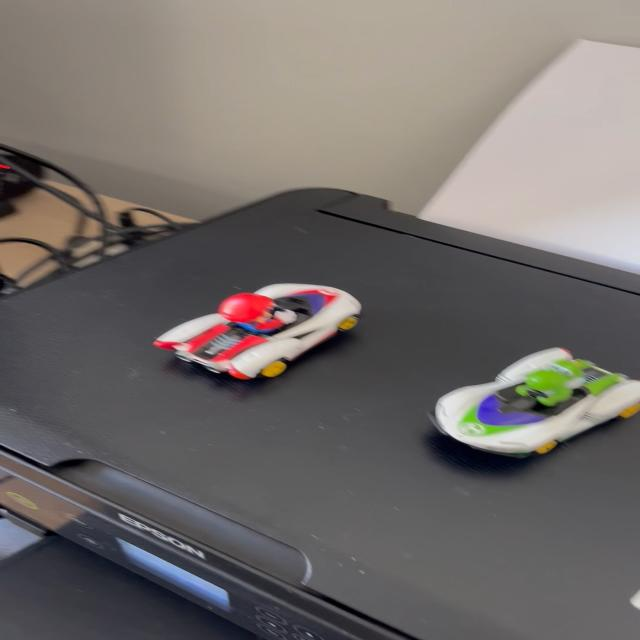mario: (141, 285, 385, 391)
yoshi: (424, 339, 640, 467)
